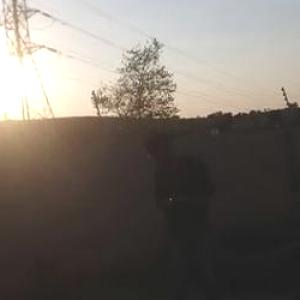follow: (143, 126, 220, 299)
